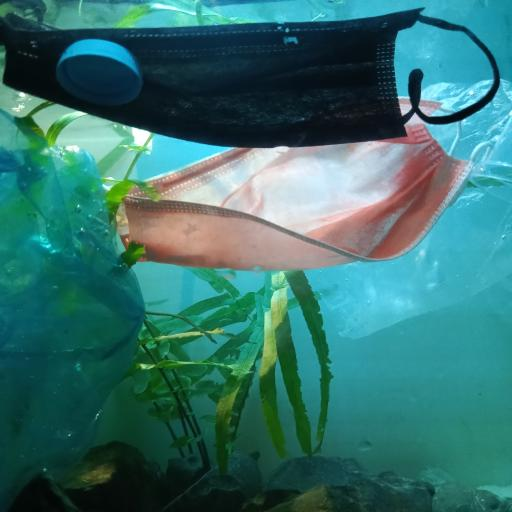bottle_cap: (55, 40, 142, 106)
mask: (5, 8, 502, 150), (112, 95, 502, 270), (0, 107, 147, 511), (307, 77, 512, 341)
